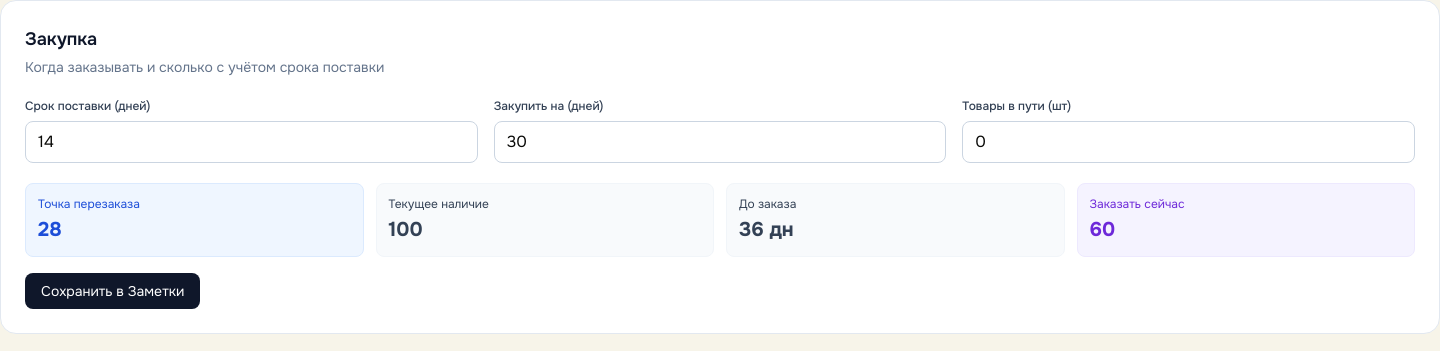
Test: ReorderPanel — «Сохранить в Заметки» › во время save кнопка disabled
Click the button "Сохранить в Заметки" at (113, 291), box [25,273,200,309]
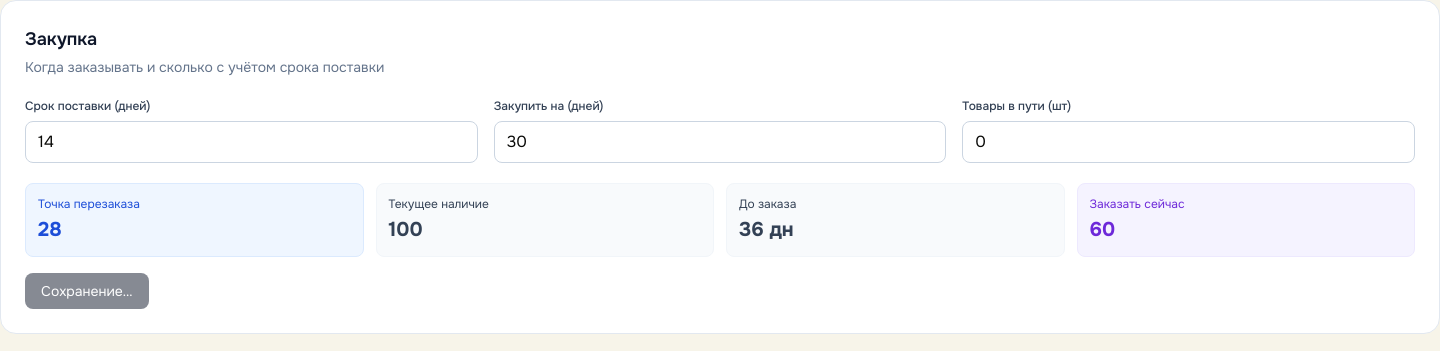
expect the button "Сохранение…" is disabled: met, box [25,273,149,309]
